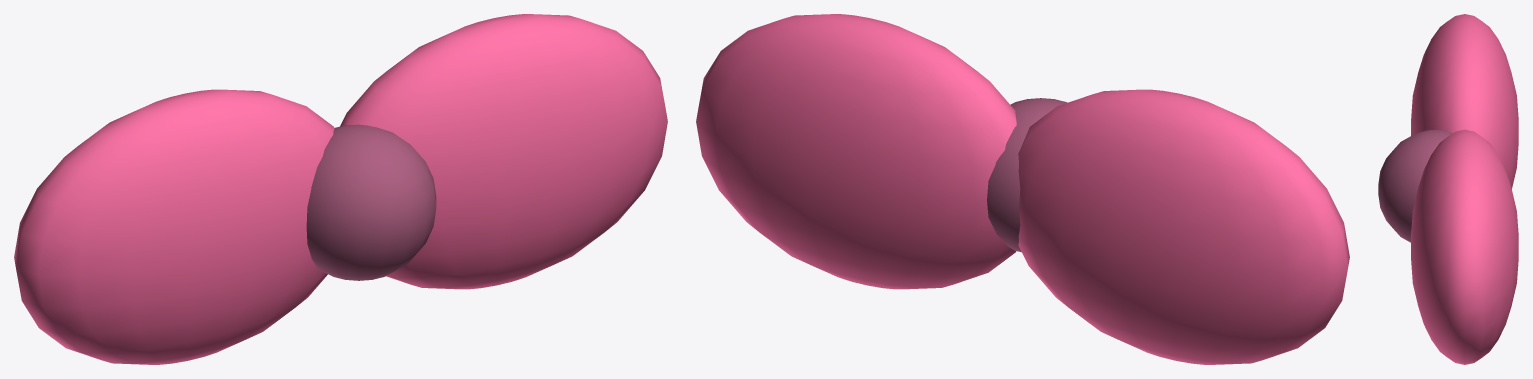
The model's file is head_cute_1.glb.
The picture shows the model from 3 angles, left to right: view 1: azimuth 30°, elevation 25°; view 2: azimuth 150°, elevation 25°; view 3: azimuth 270°, elevation 25°; orthographic projection. The views are drawn at different scales.
Bounding box in the file's own units: 0.4515 × 0.172 × 0.1104.
